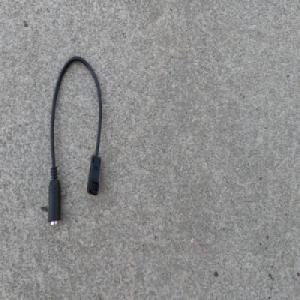Wire: (46, 53, 104, 232)
